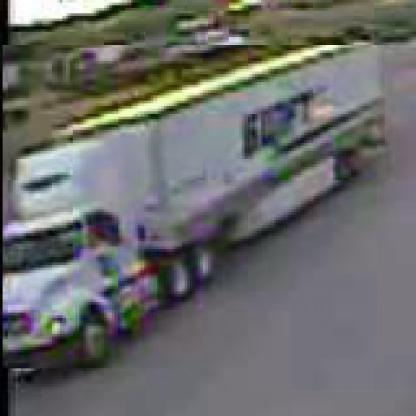container: (4, 46, 389, 372)
